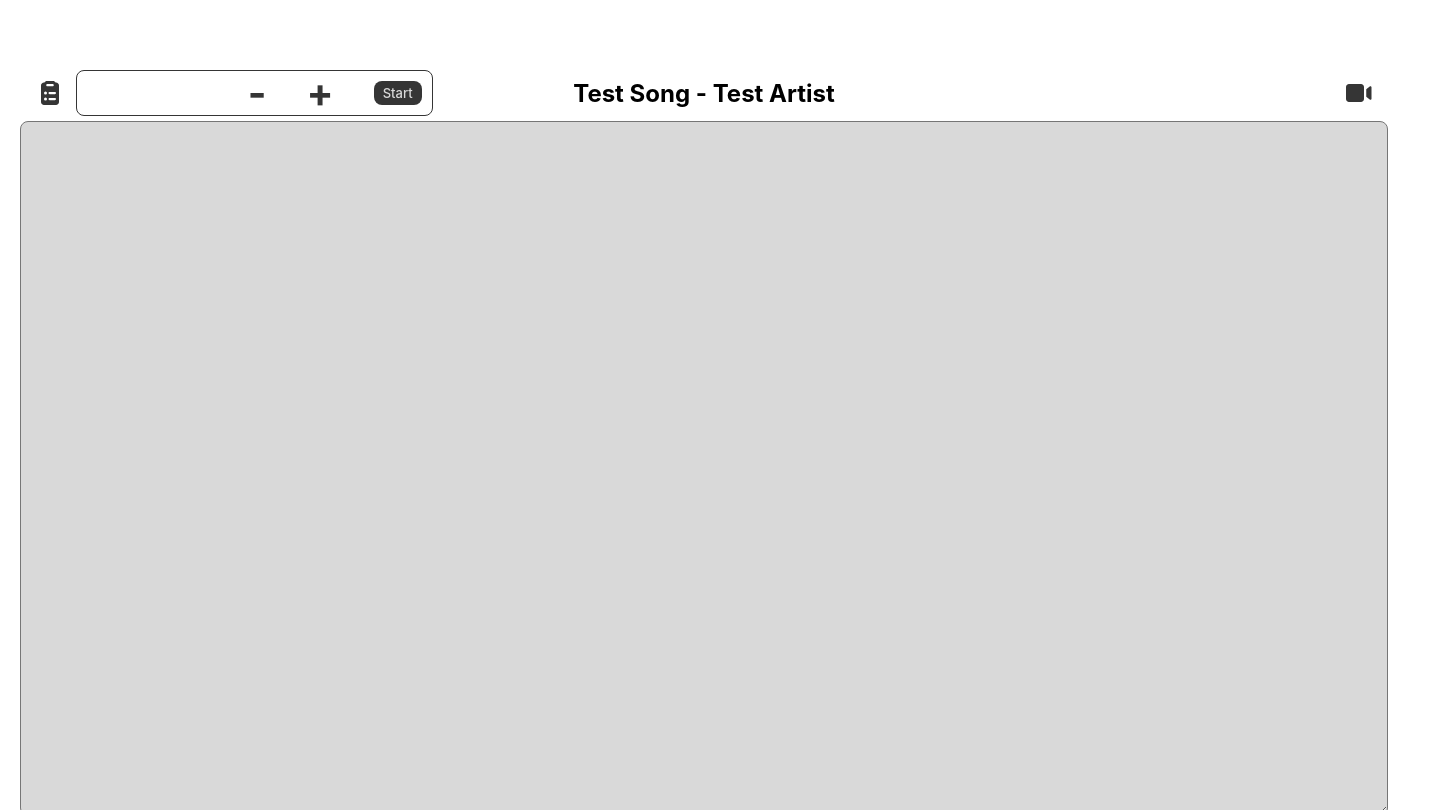
Scenario: SongDisplay › renders Save Speed button
The width and height of the screenshot is (1440, 810).
Click the picture with class "options-toggle-btn".
click(50, 93)  # box [30,76,70,110]
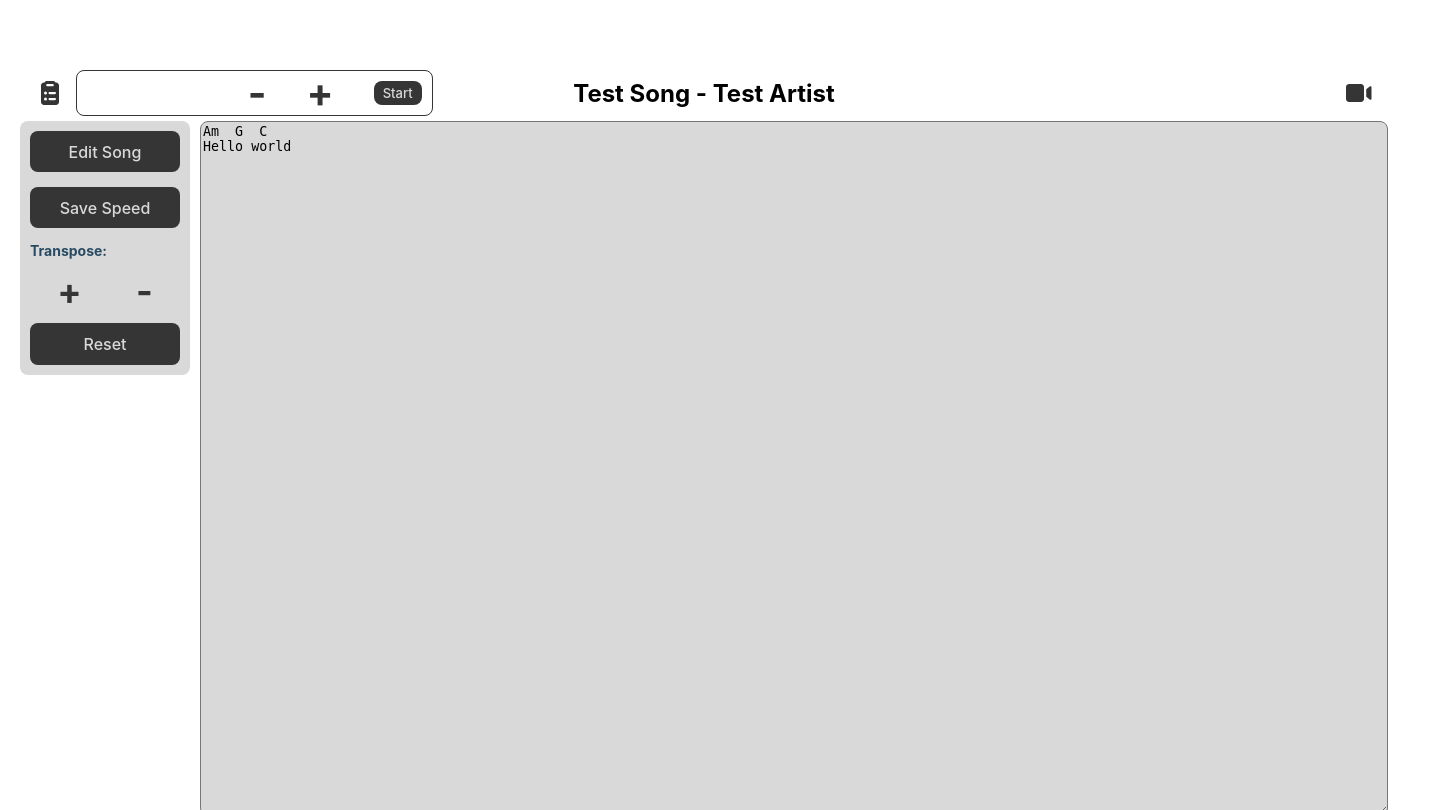
Check: the button "Save Speed" is shown, box [30,187,180,228]
